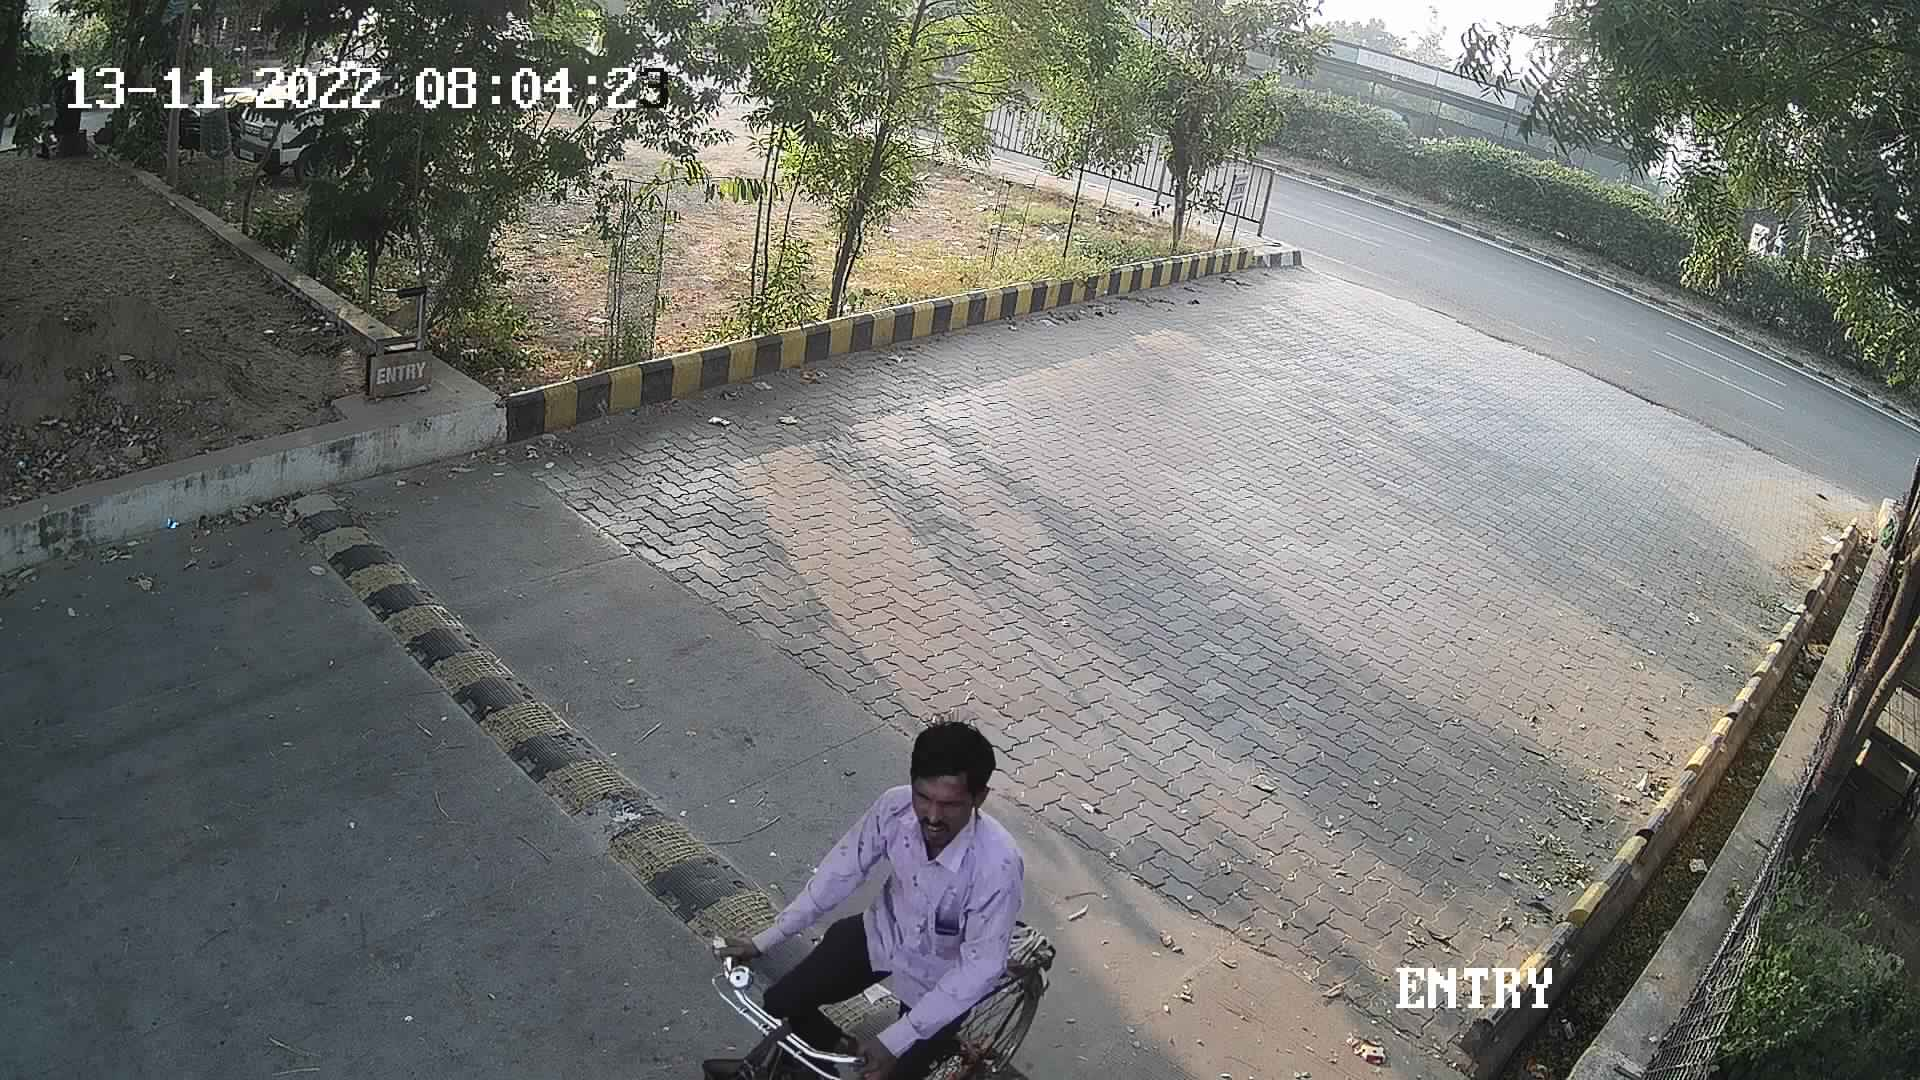Car: (229, 45, 349, 198)
